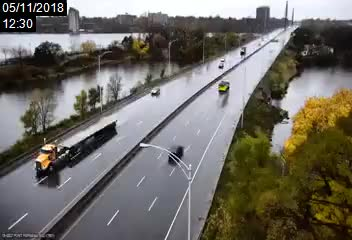personal_car: (168, 145, 183, 163), (215, 81, 233, 95), (151, 87, 161, 95)
truck: (36, 118, 116, 176)
